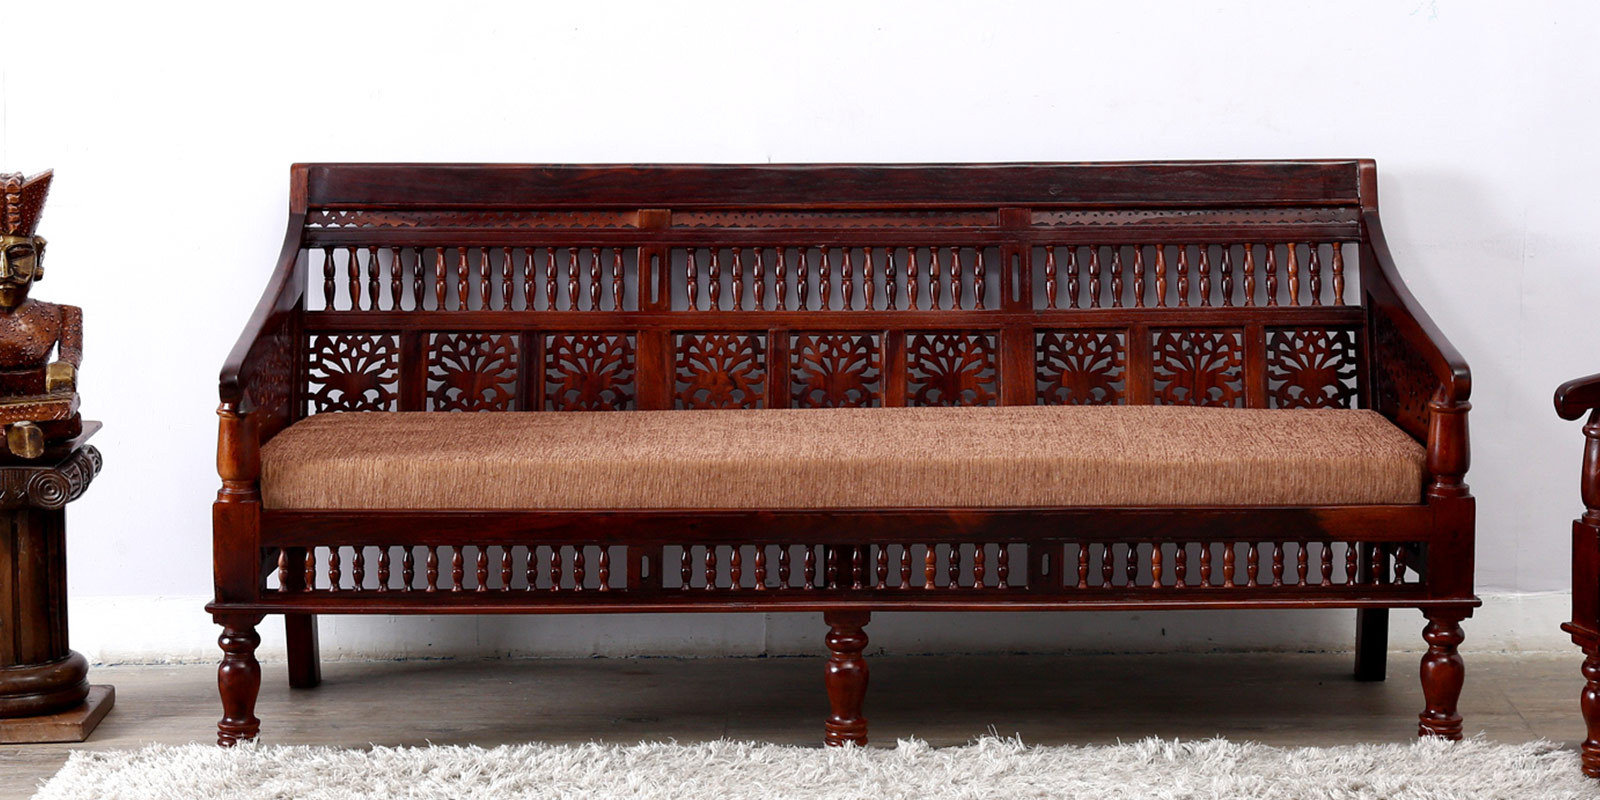Maurya Handcrafted Three Seater Sofa in Honey Oak Finish by Mudramark: (203, 159, 1482, 746)
